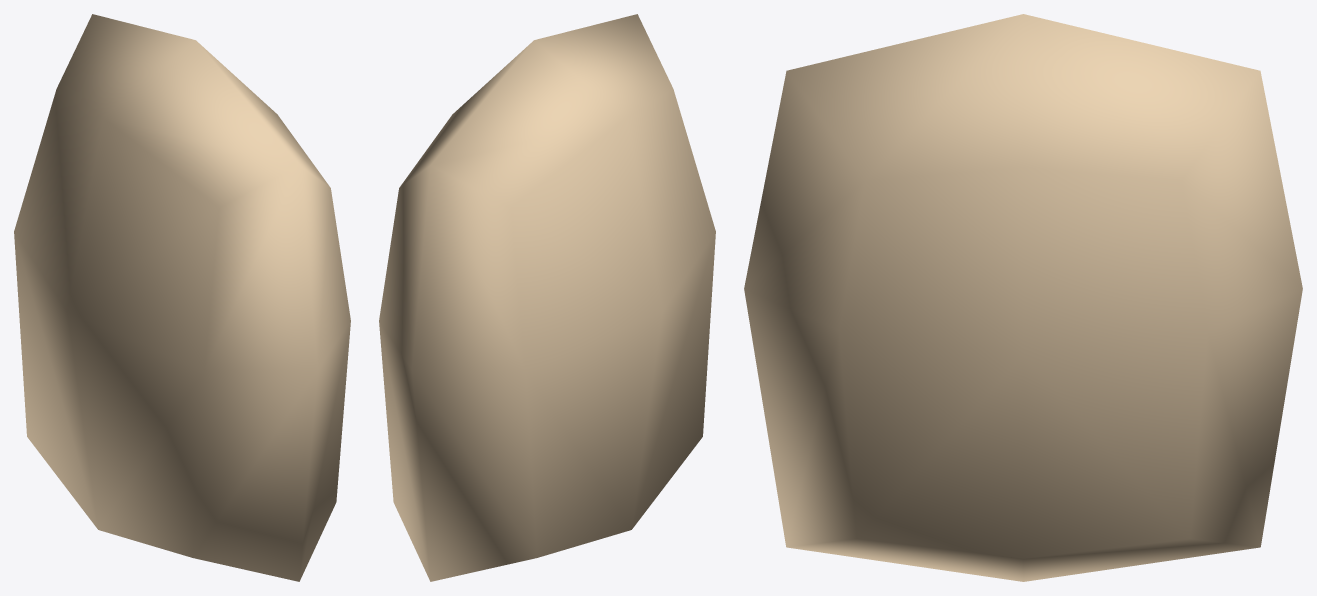
File: Sac de farine.fbx
3 views of the same model, side by side, from view 1: azimuth 30°, elevation 25°; view 2: azimuth 150°, elevation 25°; view 3: azimuth 270°, elevation 25° (orthographic). The views are drawn at different scales.
Parts seen in each view (by area): view 1: Sac de farine; view 2: Sac de farine; view 3: Sac de farine.
Part boxes in pixels (x1,y1,x2,y2): Sac de farine: (14,14,350,581); Sac de farine: (379,14,715,581); Sac de farine: (744,14,1302,581).
Size of the model in its own units: 70.59 by 135 by 120.
